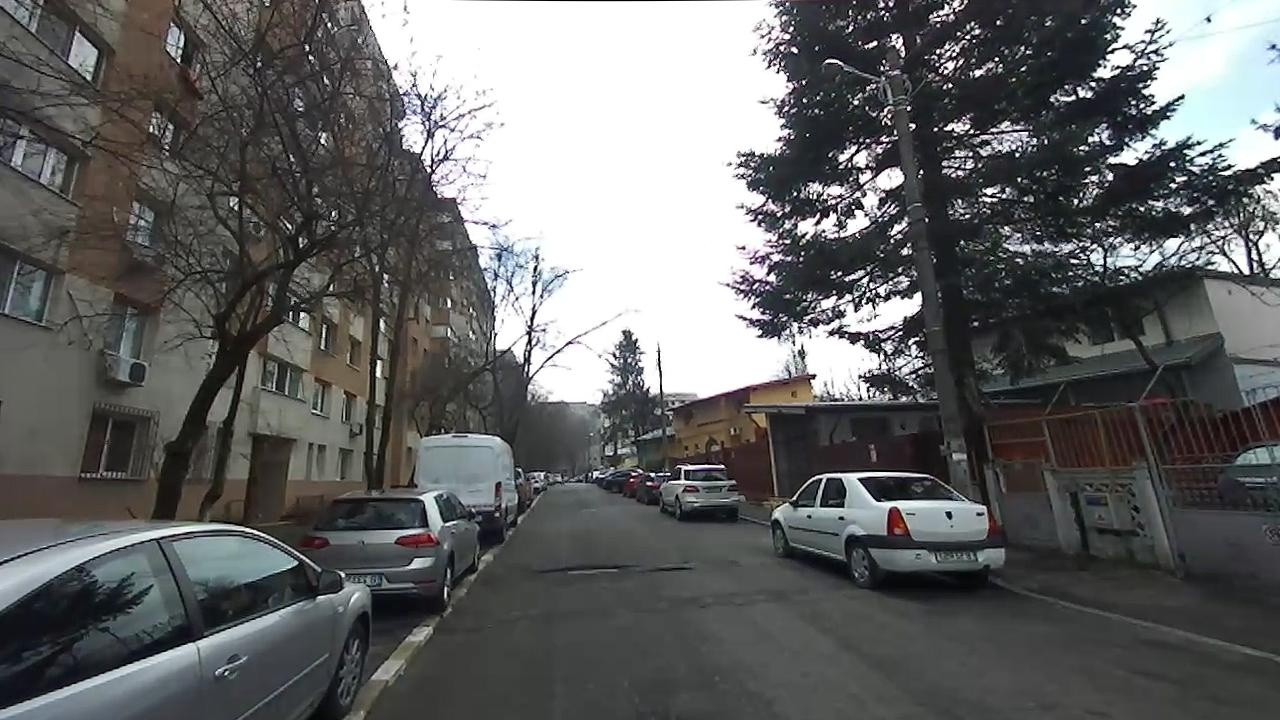pothole: (538, 564, 627, 576), (647, 564, 692, 571)
